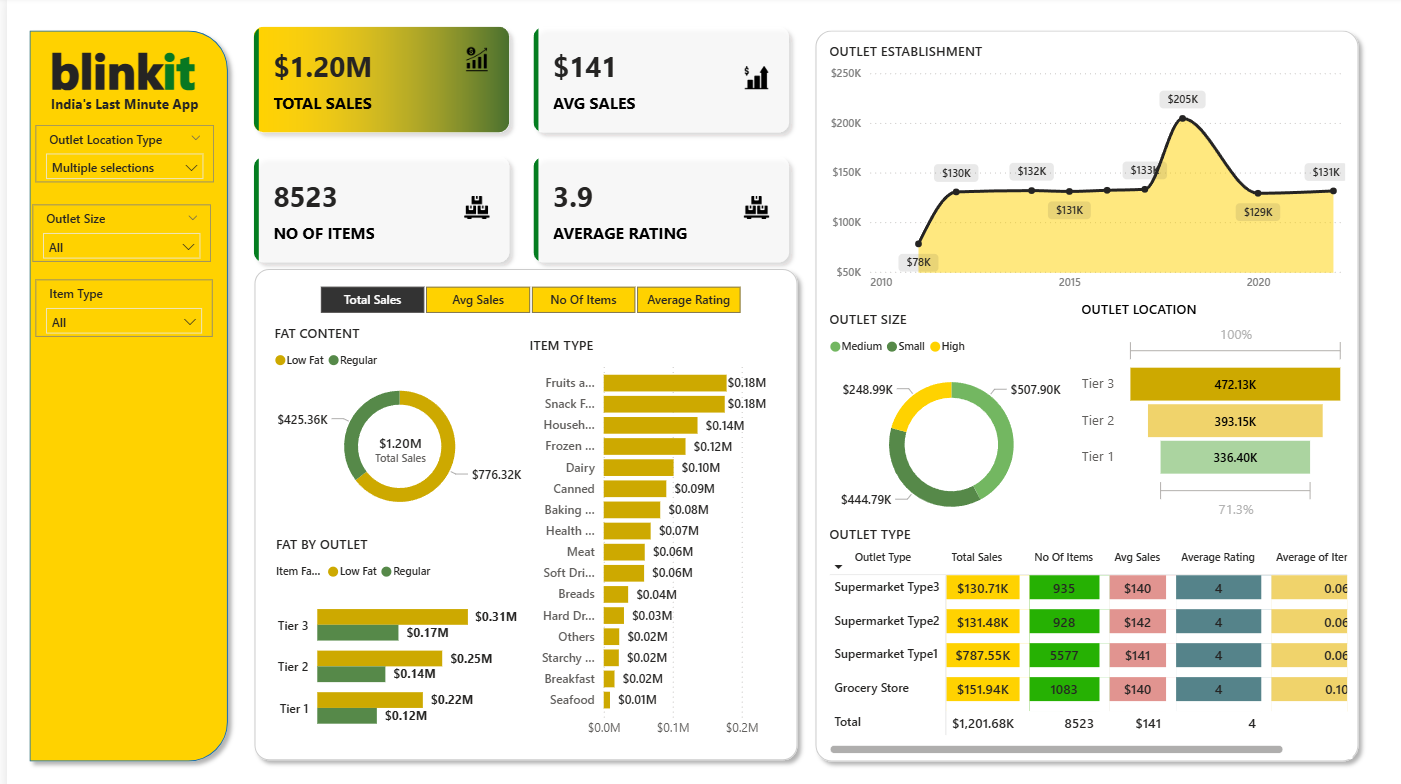

Layout of this report page (visuals, bound fields, positions):
{"tool":"powerbi","page":{"name":"Blinkit","canvas":[1400,800],"ordinal":0},"visuals":[{"type":"shape","box":[13.3,25,216.7,750],"z":0},{"type":"textbox","box":[24,36,183.2,84.1],"z":1000},{"type":"textbox","box":[28.8,92.5,178.8,36.2],"z":2000},{"type":"cardVisual","fields":{"Data":["BlinkIT Grocery Data.Total Sales","BlinkIT Grocery Data.Avg Sales","BlinkIT Grocery Data.No Of Items","BlinkIT Grocery Data.Average Rating"]},"box":[230,13.3,570,270],"z":3000},{"type":"shape","box":[238.3,265,561.7,510],"z":4000},{"type":"donutChart","title":"FAT CONTENT","fields":{"Y":["BlinkIT Grocery Data.Total Sales"],"Category":["BlinkIT Grocery Data.Item Fat Content"]},"box":[263.3,326.7,260,201.7],"z":5000},{"type":"slicer","fields":{"Values":["Metrics.Metrics"]},"box":[288.3,283.3,470,40],"z":6000},{"type":"cardVisual","fields":{"Data":["BlinkIT Grocery Data.Total Sales"]},"box":[326.7,400,133.3,108.3],"z":7000},{"type":"clusteredBarChart","title":"FAT BY OUTLET","fields":{"Y":["BlinkIT Grocery Data.Total Sales"],"Category":["BlinkIT Grocery Data.Outlet Location Type"],"Series":["BlinkIT Grocery Data.Item Fat Content"]},"box":[263.8,538.8,251.2,212.5],"z":8000},{"type":"shape","box":[1157.1,330,137.1,128.6],"z":9000},{"type":"barChart","title":"ITEM TYPE","fields":{"Y":["BlinkIT Grocery Data.Total Sales"],"Category":["BlinkIT Grocery Data.Item Type"]},"box":[518.8,340,263.8,411.2],"z":11000},{"type":"shape","box":[800,25,561.7,750],"z":12000},{"type":"lineChart","title":"OUTLET ESTABLISHMENT","fields":{"Category":["BlinkIT Grocery Data.Outlet Establishment Year"],"Y":["BlinkIT Grocery Data.Total Sales"]},"box":[818.8,45,526.2,258.8],"z":13000},{"type":"donutChart","title":"OUTLET SIZE","fields":{"Y":["BlinkIT Grocery Data.Total Sales"],"Category":["BlinkIT Grocery Data.Outlet Size"]},"box":[818.3,313.3,253.3,225],"z":14000},{"type":"funnel","title":"OUTLET LOCATION","fields":{"Y":["Sum(BlinkIT Grocery Data.Sales)"],"Category":["BlinkIT Grocery Data.Outlet Location Type"]},"box":[1071.2,303.8,273.8,225],"z":16000},{"type":"pivotTable","title":"OUTLET TYPE","fields":{"Rows":["BlinkIT Grocery Data.Outlet Type"],"Values":["BlinkIT Grocery Data.Total Sales","BlinkIT Grocery Data.No Of Items","BlinkIT Grocery Data.Avg Sales","BlinkIT Grocery Data.Average Rating","Avg(BlinkIT Grocery Data.Item Visibility)"]},"box":[818.3,528.3,528.3,235],"z":20000},{"type":"slicer","fields":{"Values":["BlinkIT Grocery Data.Outlet Location Type"]},"box":[28.6,128.6,178.6,57.1],"z":21000},{"type":"slicer","fields":{"Values":["BlinkIT Grocery Data.Outlet Size"]},"box":[25.7,208.6,178.6,57.1],"z":22000},{"type":"slicer","fields":{"Values":["BlinkIT Grocery Data.Item Type"]},"box":[28.6,284.3,177.1,57.1],"z":23000}]}

Visuals, with their boxes in screenshot pixels (x1, y1, x2, y2), scaled from the page's 1400x800 canvas onto the 1401x784 screenshot:
shape: {"left": 13, "top": 24, "right": 230, "bottom": 760}
textbox: {"left": 24, "top": 35, "right": 207, "bottom": 118}
textbox: {"left": 29, "top": 91, "right": 208, "bottom": 126}
cardVisual - BlinkIT Grocery Data.Total Sales x BlinkIT Grocery Data.Avg Sales: {"left": 230, "top": 13, "right": 801, "bottom": 278}
shape: {"left": 238, "top": 260, "right": 801, "bottom": 760}
"FAT CONTENT" donutChart: {"left": 263, "top": 320, "right": 524, "bottom": 518}
slicer - Metrics.Metrics: {"left": 289, "top": 278, "right": 759, "bottom": 317}
cardVisual - BlinkIT Grocery Data.Total Sales: {"left": 327, "top": 392, "right": 460, "bottom": 498}
"FAT BY OUTLET" clusteredBarChart: {"left": 264, "top": 528, "right": 515, "bottom": 736}
shape: {"left": 1158, "top": 323, "right": 1295, "bottom": 449}
"ITEM TYPE" barChart: {"left": 519, "top": 333, "right": 783, "bottom": 736}
shape: {"left": 801, "top": 24, "right": 1363, "bottom": 760}
"OUTLET ESTABLISHMENT" lineChart: {"left": 819, "top": 44, "right": 1346, "bottom": 298}
"OUTLET SIZE" donutChart: {"left": 819, "top": 307, "right": 1072, "bottom": 528}
"OUTLET LOCATION" funnel: {"left": 1072, "top": 298, "right": 1346, "bottom": 518}
"OUTLET TYPE" pivotTable: {"left": 819, "top": 518, "right": 1348, "bottom": 748}
slicer - BlinkIT Grocery Data.Outlet Location Type: {"left": 29, "top": 126, "right": 207, "bottom": 182}
slicer - BlinkIT Grocery Data.Outlet Size: {"left": 26, "top": 204, "right": 204, "bottom": 260}
slicer - BlinkIT Grocery Data.Item Type: {"left": 29, "top": 279, "right": 206, "bottom": 335}
